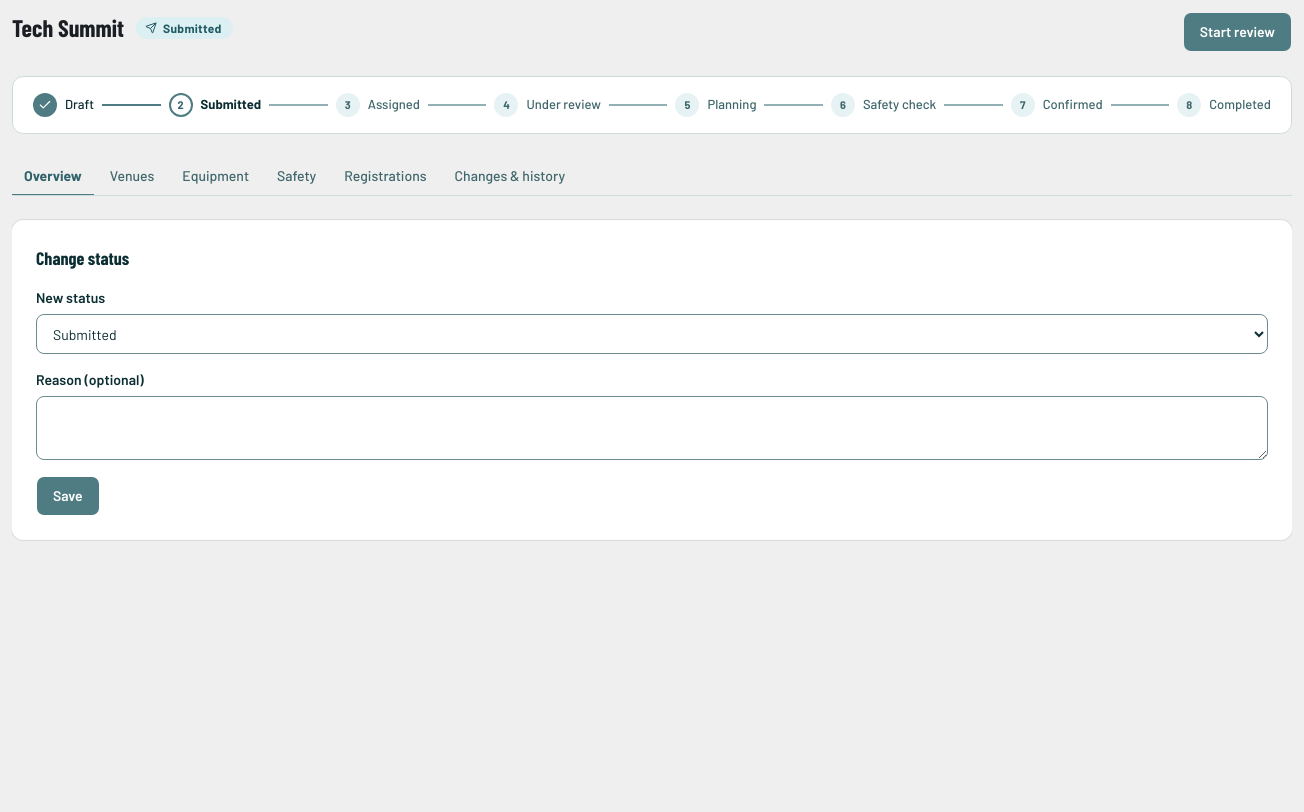
SCRUM-45 — Start reviewing an event request › AC1, AC2: the assigned coordinator starts the review and sees Under review
Click the button "Start review".
click(1237, 32)  # box left=1183, top=12, right=1292, bottom=52
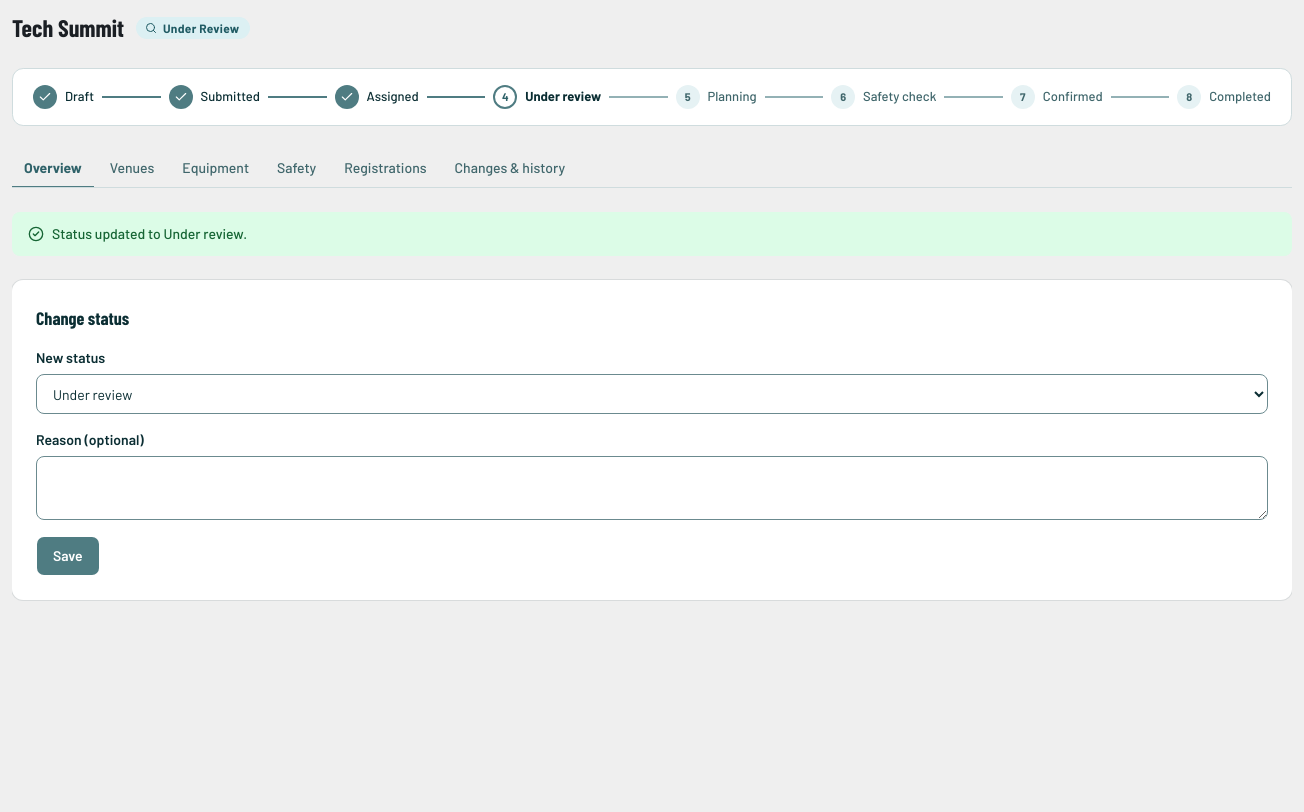
Expected: the text "Status updated to Under review." is shown, left=52, top=224, right=247, bottom=244
Expected: the text "Under Review" is shown, left=136, top=17, right=250, bottom=39
Expected: the button "Start review" is gone
